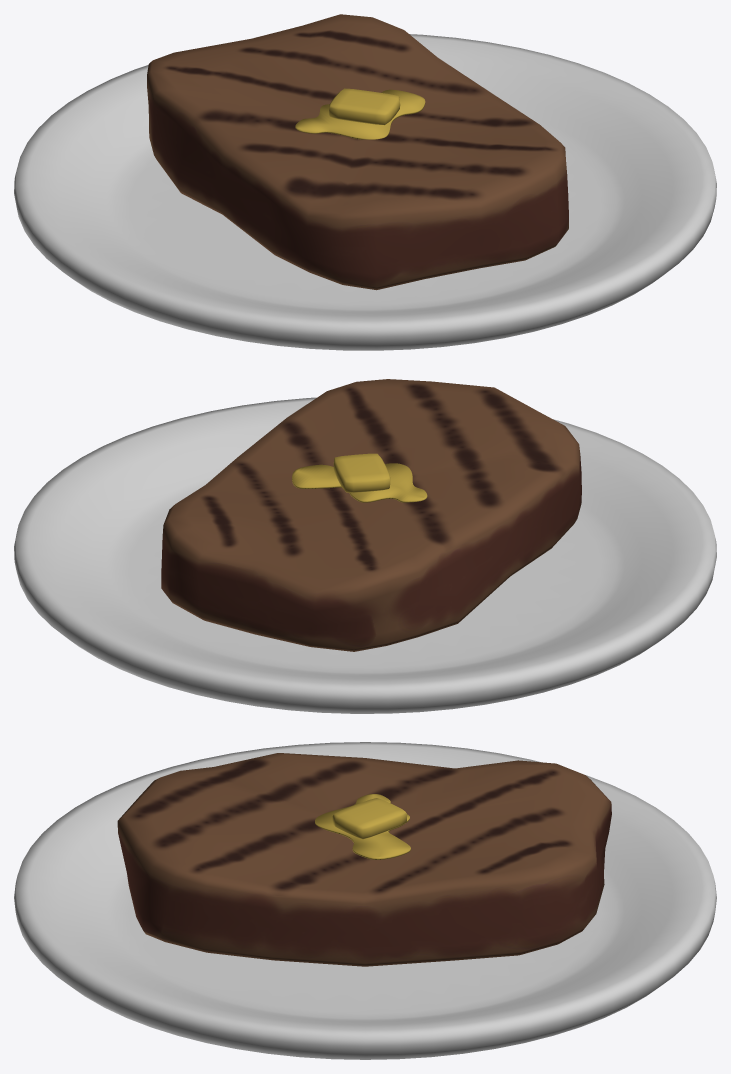
The model's file is RibEyeSteak.fbx.
3 renders of one model, top to bottom at view 1: azimuth 30°, elevation 25°; view 2: azimuth 150°, elevation 25°; view 3: azimuth 270°, elevation 25°, orthographic.
Visible parts, largest first — view 1: RibPlate, Rib, RibButterMelt, RibButter; view 2: RibPlate, Rib, RibButterMelt, RibButter; view 3: RibPlate, Rib, RibButter, RibButterMelt.
Part boxes in pixels (left/top/right/bottom): RibPlate: left=14, top=34, right=716, bottom=350; Rib: left=147, top=14, right=568, bottom=290; RibButterMelt: left=295, top=89, right=425, bottom=139; RibButter: left=329, top=88, right=400, bottom=125; RibPlate: left=14, top=397, right=716, bottom=713; Rib: left=161, top=379, right=581, bottom=651; RibButterMelt: left=292, top=463, right=427, bottom=502; RibButter: left=333, top=453, right=390, bottom=492; RibPlate: left=14, top=742, right=716, bottom=1059; Rib: left=117, top=753, right=611, bottom=966; RibButter: left=332, top=798, right=406, bottom=839; RibButterMelt: left=315, top=794, right=410, bottom=859.
Size of the model in its own units: 66.8 by 14.54 by 66.8.
4 materials, 4 textured.
